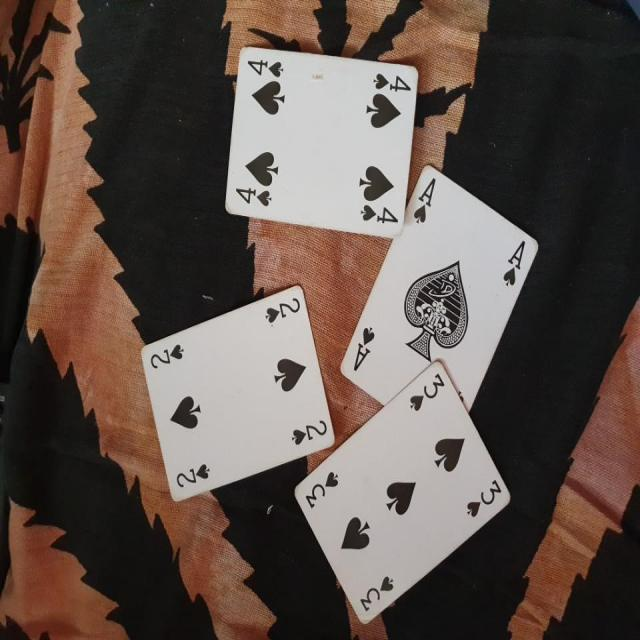2 Spades: (143, 281, 340, 503)
3 Spades: (289, 354, 514, 620)
4 Spades: (218, 42, 420, 244)
A Spades: (338, 168, 546, 423)
